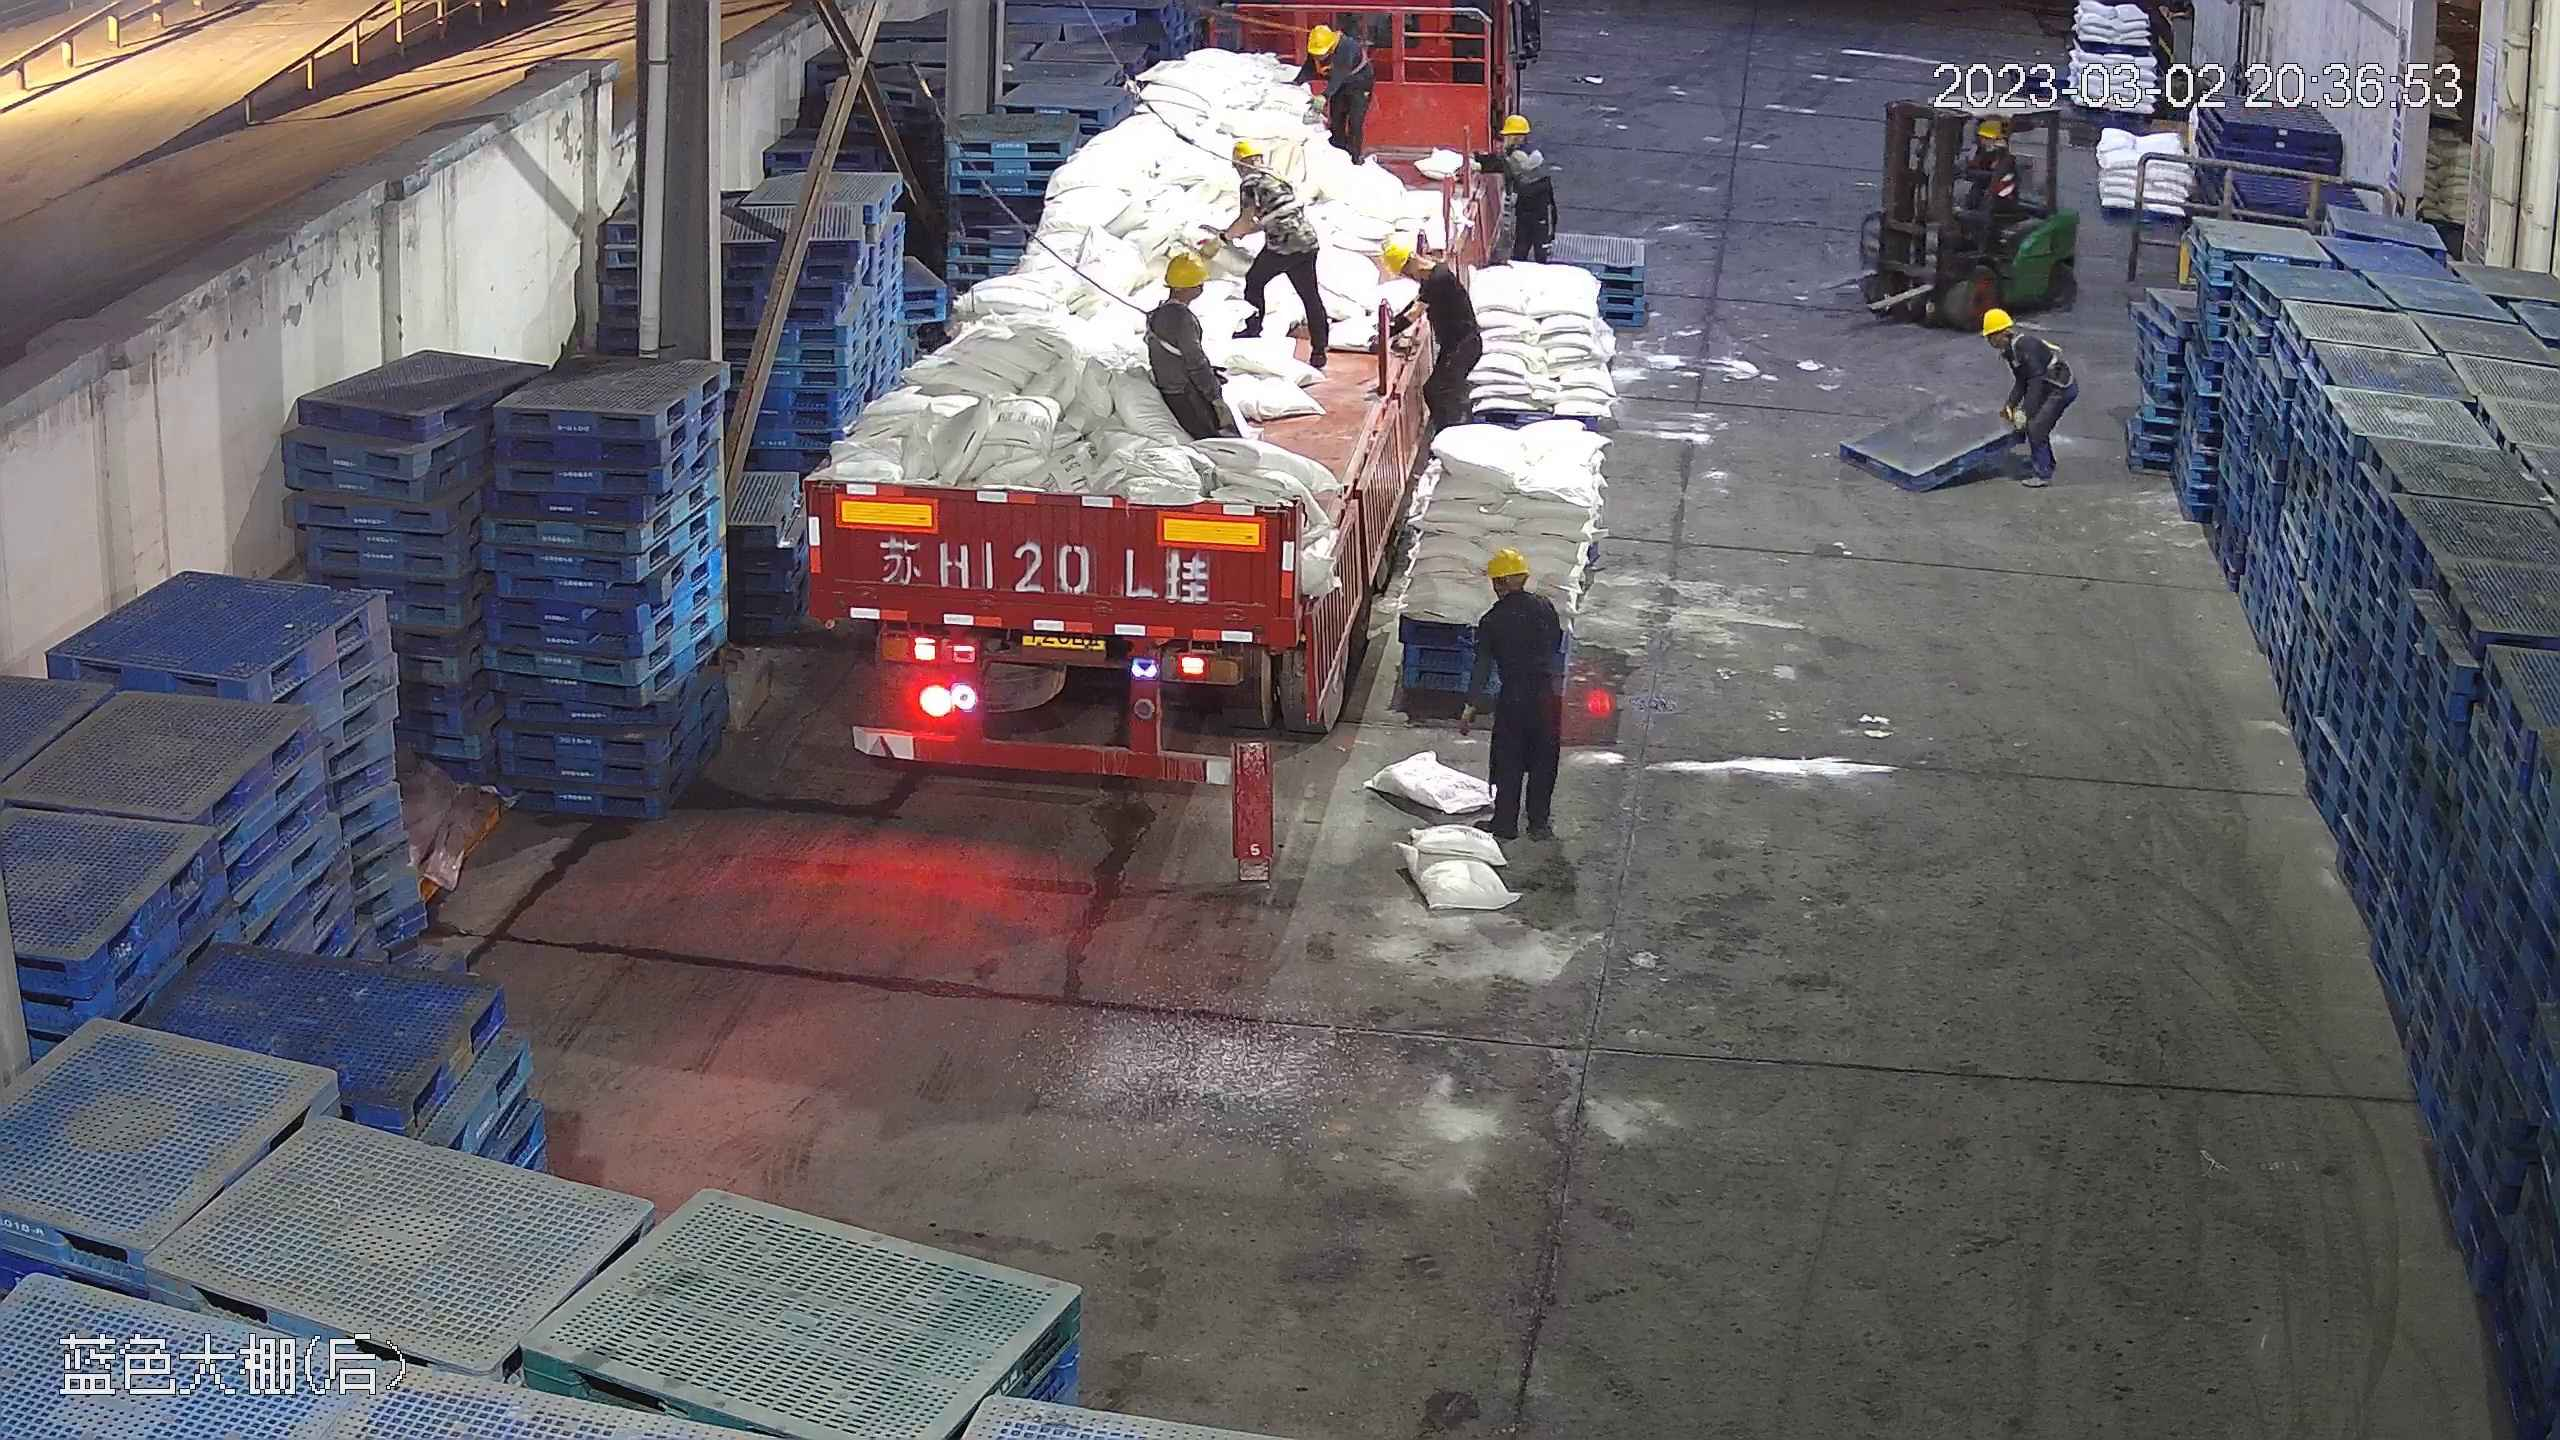belt: (1252, 163, 1312, 221), (1312, 26, 1367, 82), (1134, 298, 1185, 353), (2008, 325, 2065, 375)
head: (1474, 543, 1563, 643), (1375, 239, 1461, 309), (1144, 246, 1212, 333), (1227, 134, 1294, 212), (1980, 306, 2050, 369), (1491, 113, 1551, 175), (1306, 23, 1364, 73), (1968, 116, 2017, 168)
helmet: (1161, 247, 1210, 287), (1484, 545, 1532, 580), (1375, 238, 1415, 274), (1981, 305, 2014, 337), (1307, 22, 1340, 51), (1226, 136, 1259, 161), (1500, 113, 1531, 137), (1976, 114, 2007, 139)
people: (1463, 543, 1571, 847), (1211, 131, 1338, 364), (1369, 239, 1481, 449), (1143, 247, 1249, 450), (1982, 304, 2074, 478), (1300, 21, 1376, 179), (1487, 110, 1560, 267)
truck: (814, 8, 1500, 798)
